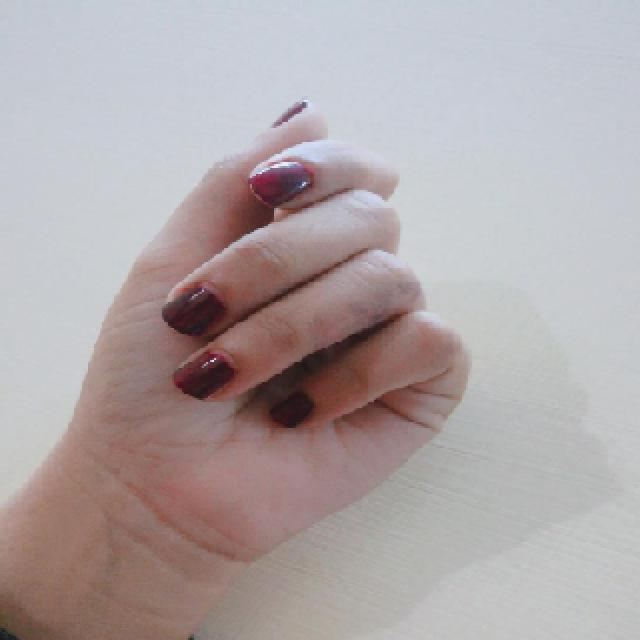Nail: (249, 160, 314, 209), (162, 285, 225, 335), (173, 350, 235, 400), (270, 390, 314, 428), (272, 101, 308, 128)
